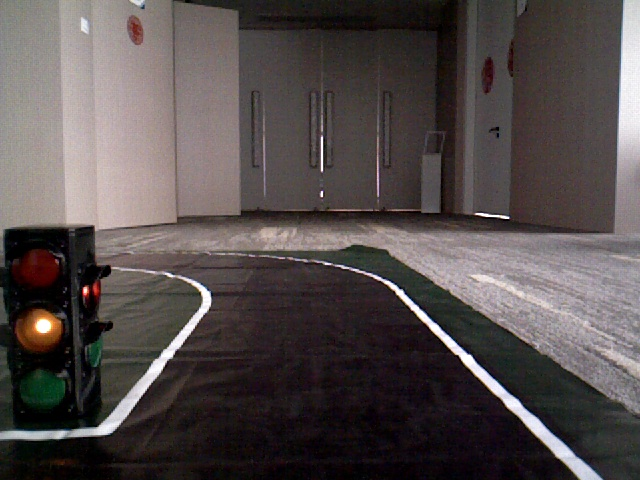yellow: (5, 234, 74, 405)
